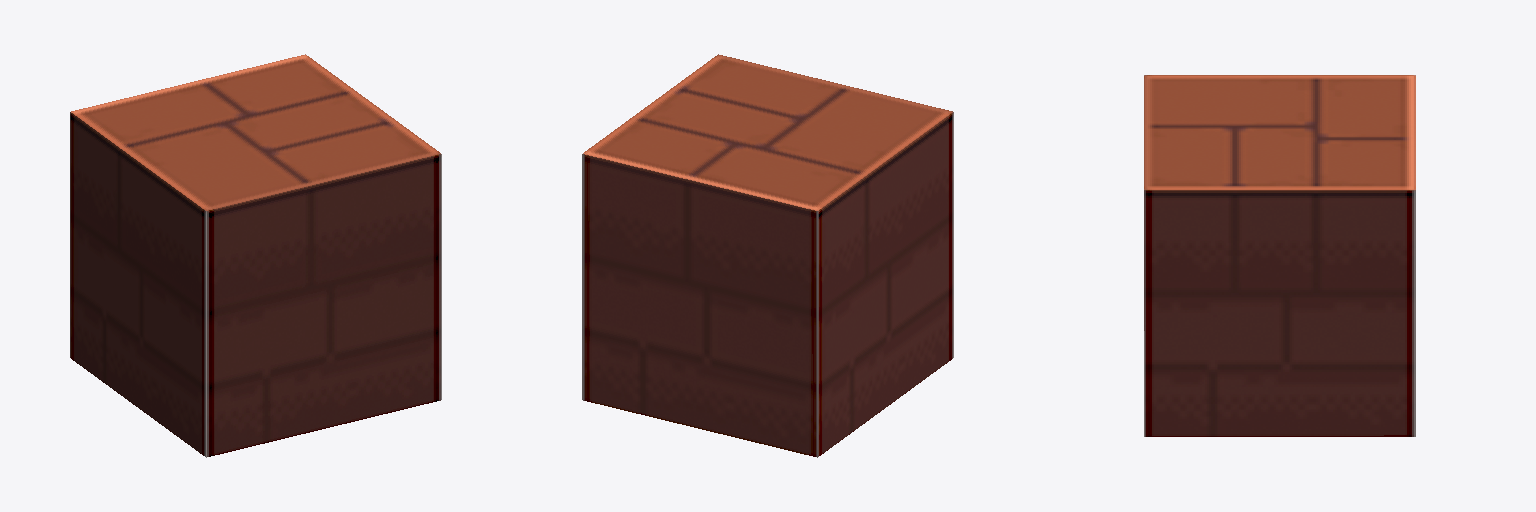
The picture shows the model from 3 angles: view 1: azimuth 30°, elevation 25°; view 2: azimuth 150°, elevation 25°; view 3: azimuth 270°, elevation 25°; orthographic projection.
Parts seen in each view (by area): view 1: wallBrick01; view 2: wallBrick01; view 3: wallBrick01.
Boxes of the visible parts, x1,y1,x2,y2 form: wallBrick01: [70, 54, 441, 457]; wallBrick01: [582, 54, 953, 457]; wallBrick01: [1144, 75, 1415, 436].
Bounding box in the file's own units: 1 × 1 × 1.
Materials: 1 (1 with a texture image).